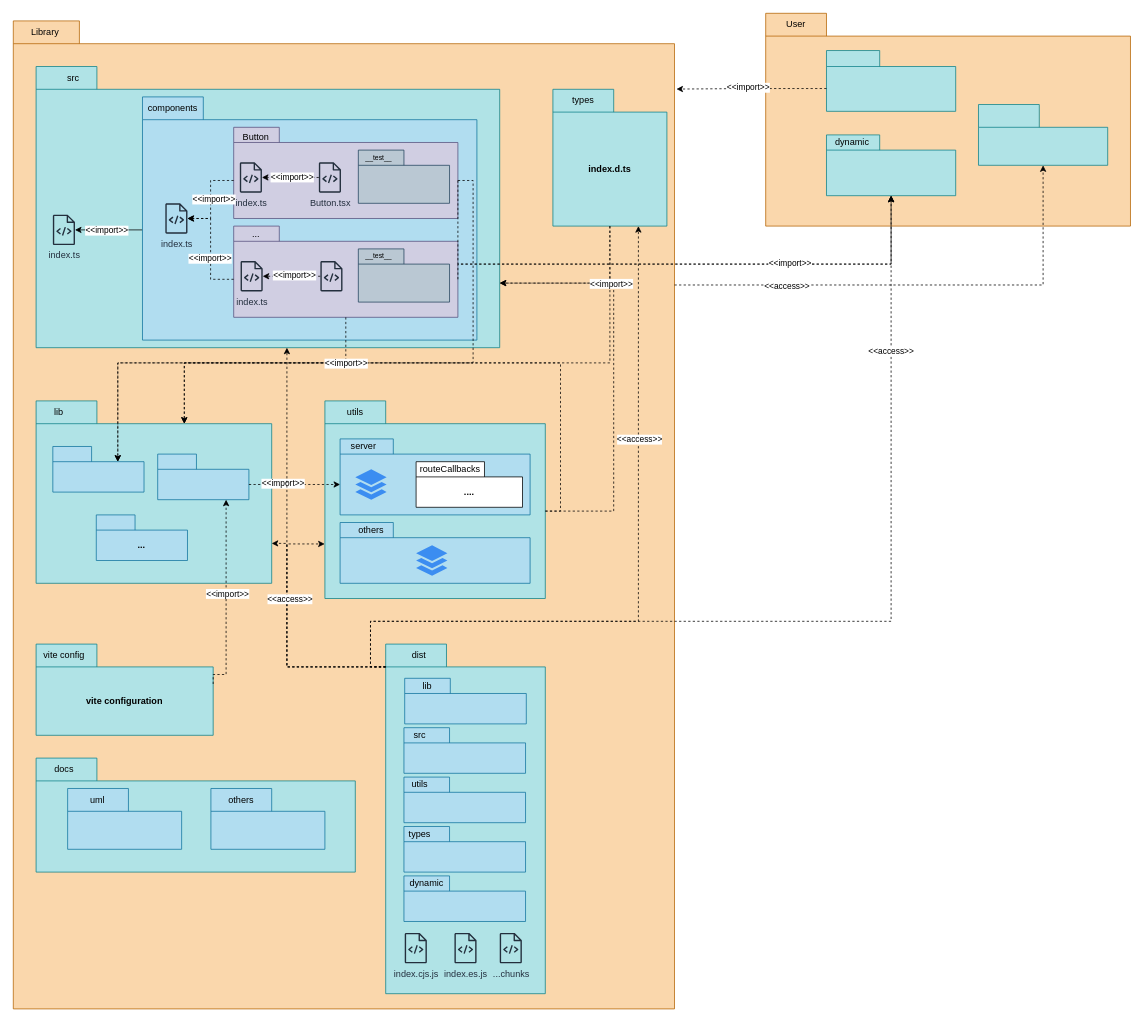
Some shapes in this 1144 by 1022 pixel diagram are drawn without their labels. The shapes that lost their labels are listed below. From the top down, each one's centre as x and y in pixels, then its label:
the point at 891,80: some files
the point at 1043,134: configuration
the point at 98,469: generative AI
the point at 203,476: vite-plugin-create-files
